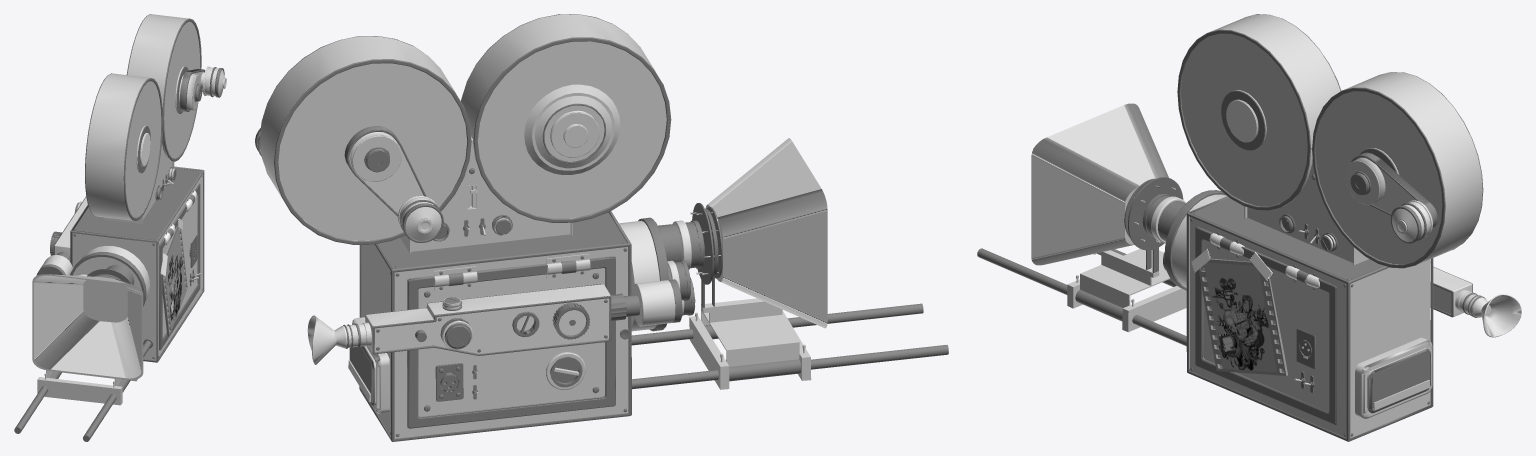
File: video.glb
3 renders of one model, left to right at view 1: azimuth 30°, elevation 25°; view 2: azimuth 150°, elevation 25°; view 3: azimuth 270°, elevation 25°, orthographic. The views are drawn at different scales.
Parts seen in each view (by area): view 1: Cube.010; view 2: Cube.010; view 3: Cube.010.
Boxes of the visible parts, left/top/right/bottom form: Cube.010: left=14, top=14, right=226, bottom=441; Cube.010: left=255, top=14, right=948, bottom=441; Cube.010: left=977, top=14, right=1521, bottom=441.
Bounding box in the file's own units: 99.98 × 71.23 × 102.
14 materials, 1 textured.
